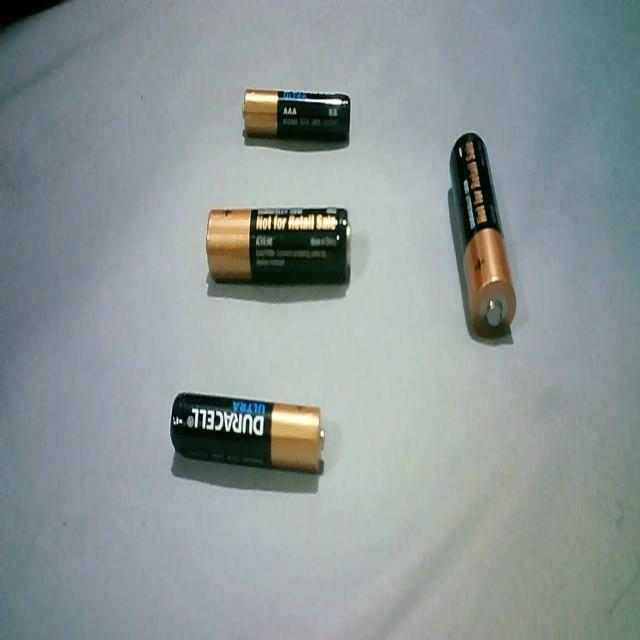AA: (445, 126, 520, 350), (199, 194, 355, 290)
AAA: (165, 381, 329, 481), (238, 77, 356, 159)
